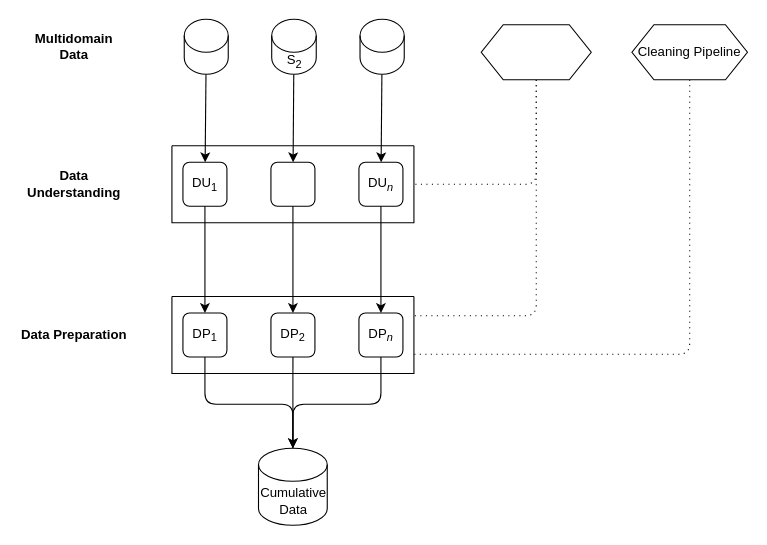
Some shapes in this 767 by 545 pixel diagram are drawn without their labels. The shapes that lost their labels are listed below. From the top down, each one's centre as x and y in pixels, then its label:
At point (205, 46): "S 1".
At point (381, 46): "S n".
At point (535, 52): "Common Plots and Functions".
At point (292, 183): "DU 2".
